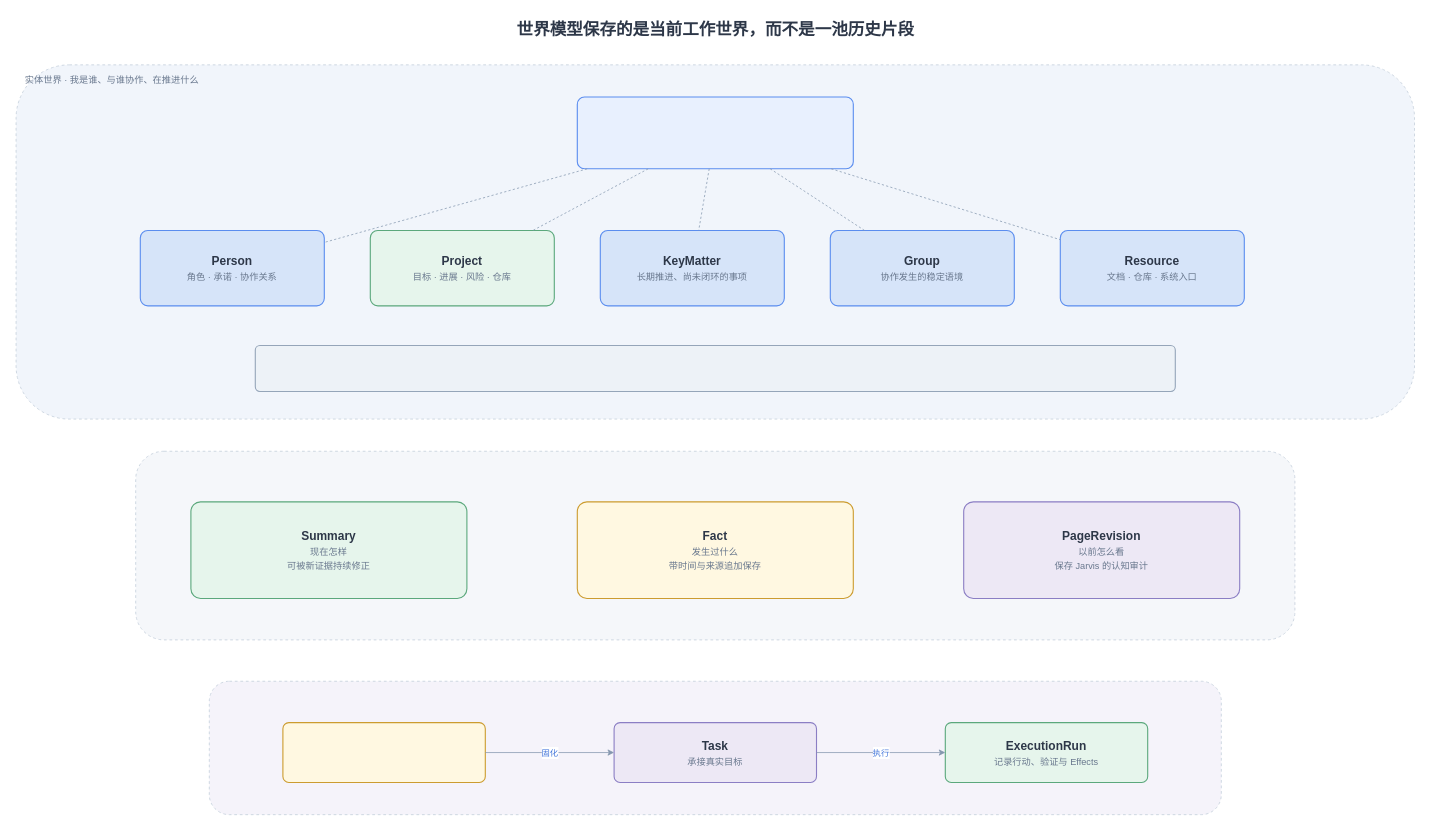
The diagram is 1431 pixels wide and 831 high, and some of its shapes have lost their labels. The box of each missing label's shape, as (x1, y1, x2, y2) in pixels:
Principal / 我 所有认知都在这个坐标系下组织: (576, 96, 853, 169)
Todo 发现变化: (282, 722, 485, 783)
关系不是另一张表 [文字](type:id) 可验证引用 → 从 Summary 派生 Backlinks: (254, 344, 1175, 392)
同一实体页附着三类认知记录: (135, 450, 1295, 640)
行动状态 · 发现变化、承接目标、记录真实行动: (208, 680, 1221, 815)
